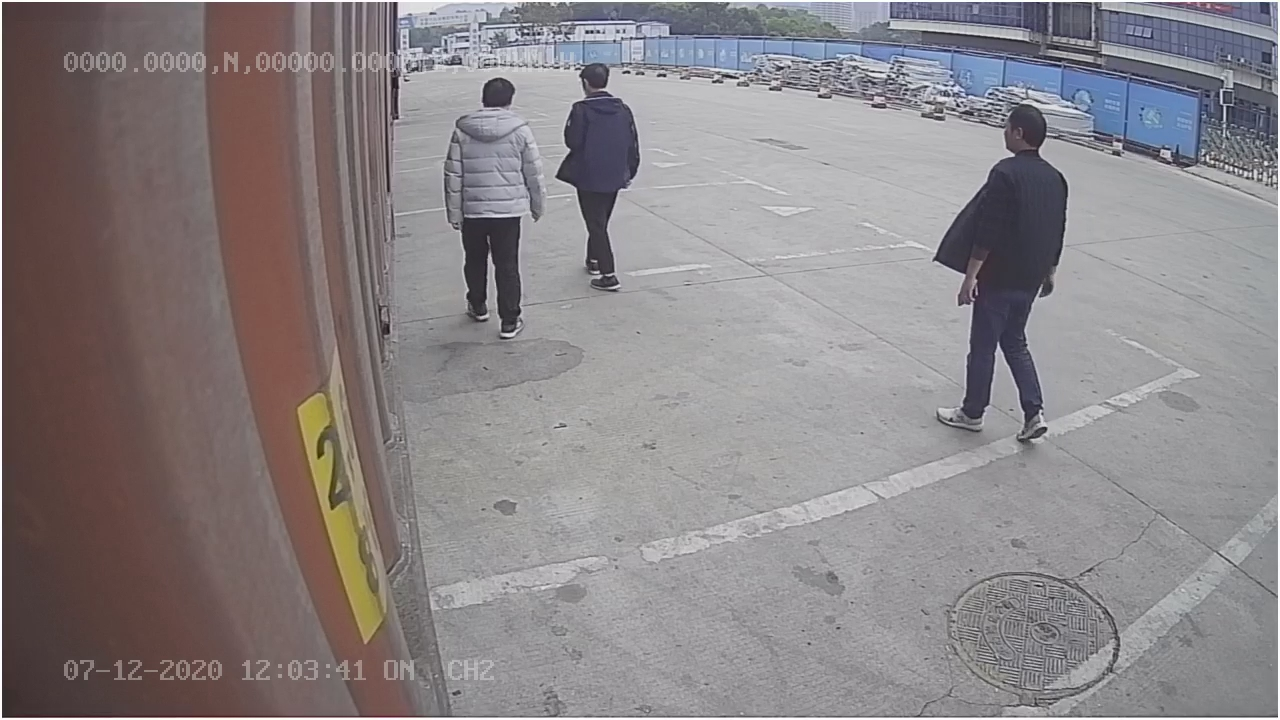person: (932, 100, 1073, 437), (441, 79, 547, 341), (554, 62, 646, 296)
